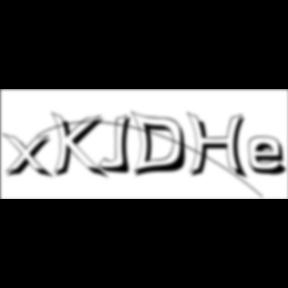D: (130, 110, 194, 180)
H: (187, 112, 253, 182)
J: (98, 114, 138, 176)
K: (52, 110, 110, 182)
x: (3, 132, 58, 181)
